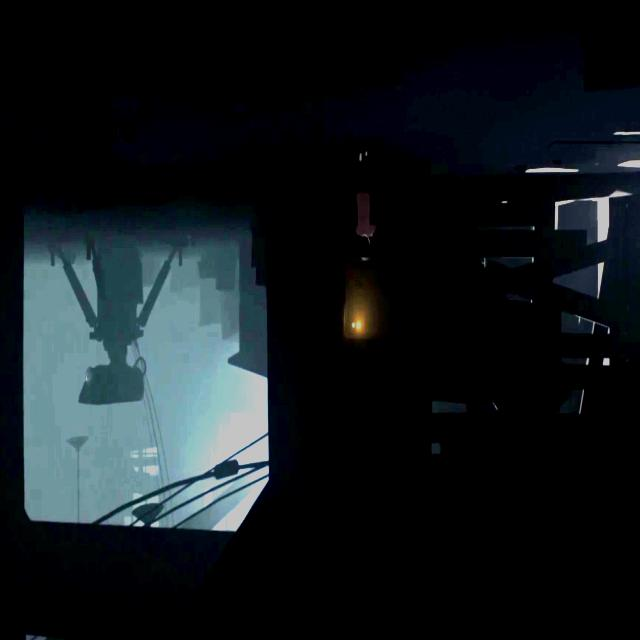boy: (352, 144, 377, 265)
zombie: (0, 100, 136, 154)
